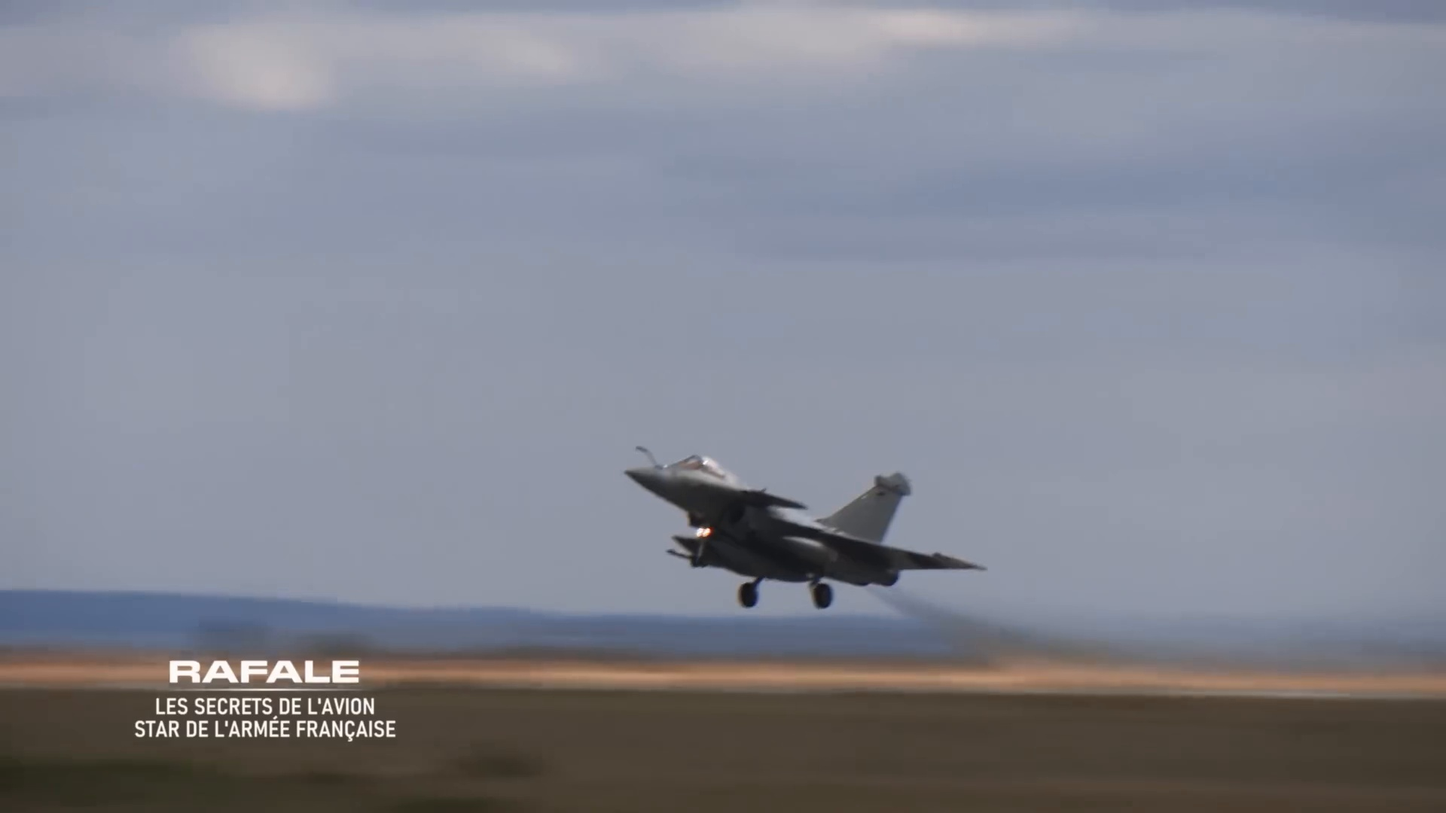Rafale: (618, 437, 992, 613)
